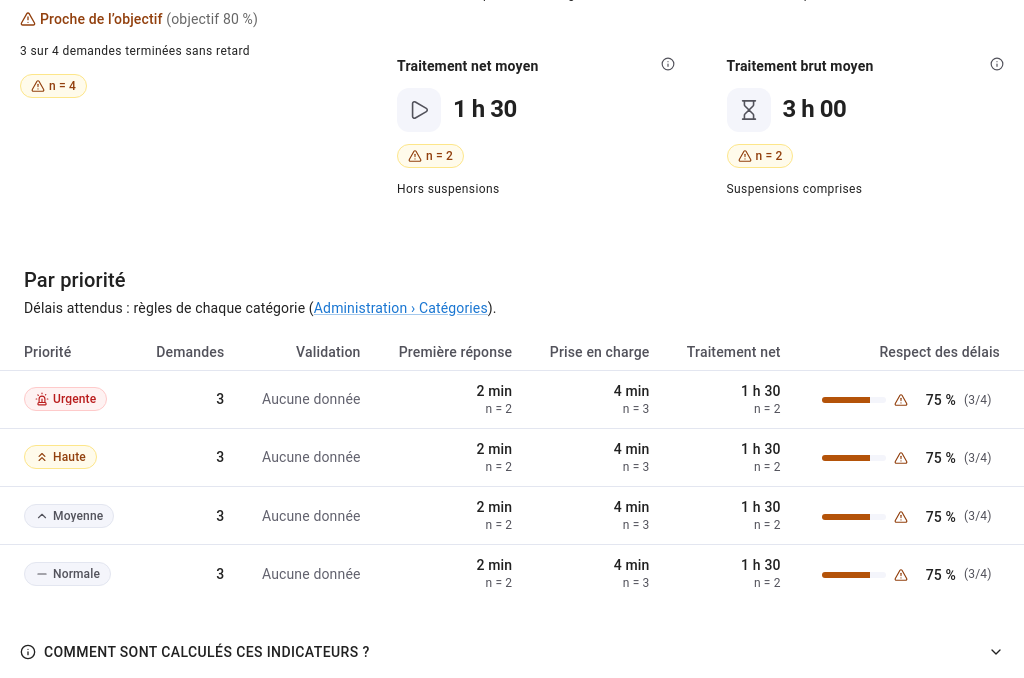
it: Tableau de bord › Délais : respect des délais en tête, niveau écrit, n par carte, aide repliée
(page scrolled)
expect the table named "Délais par priorité" is shown: met, box [0,334,1023,602]
expect the text "Proche de l’objectif" is shown: met, box [40,11,163,27]
Click the button "Comment sont calculés ces indicateurs ?" at (207, 652), box [24,630,1000,674]
(page scrolled)
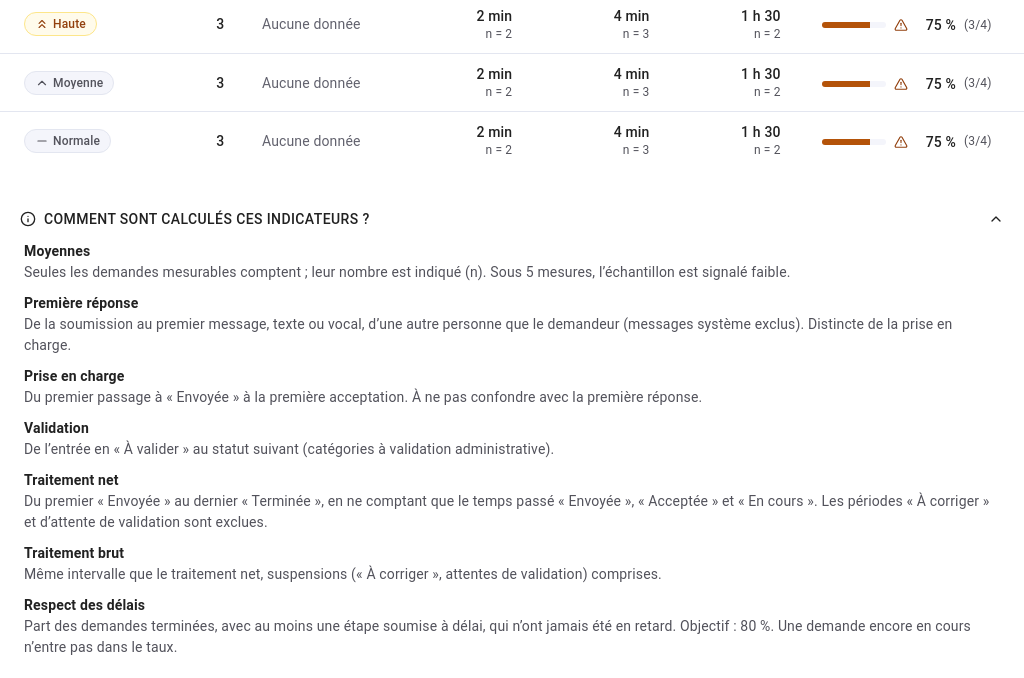
expect the button "Comment sont calculés ces indicateurs ?" is expanded: met, box [24,197,1000,241]
expect the text "Une demande encore en cours n’entre pas dans le taux" is shown: met, box [24,618,971,655]
